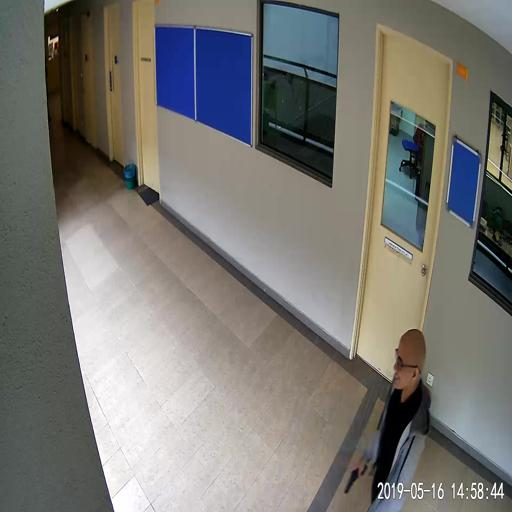pistol: (344, 463, 366, 493)
